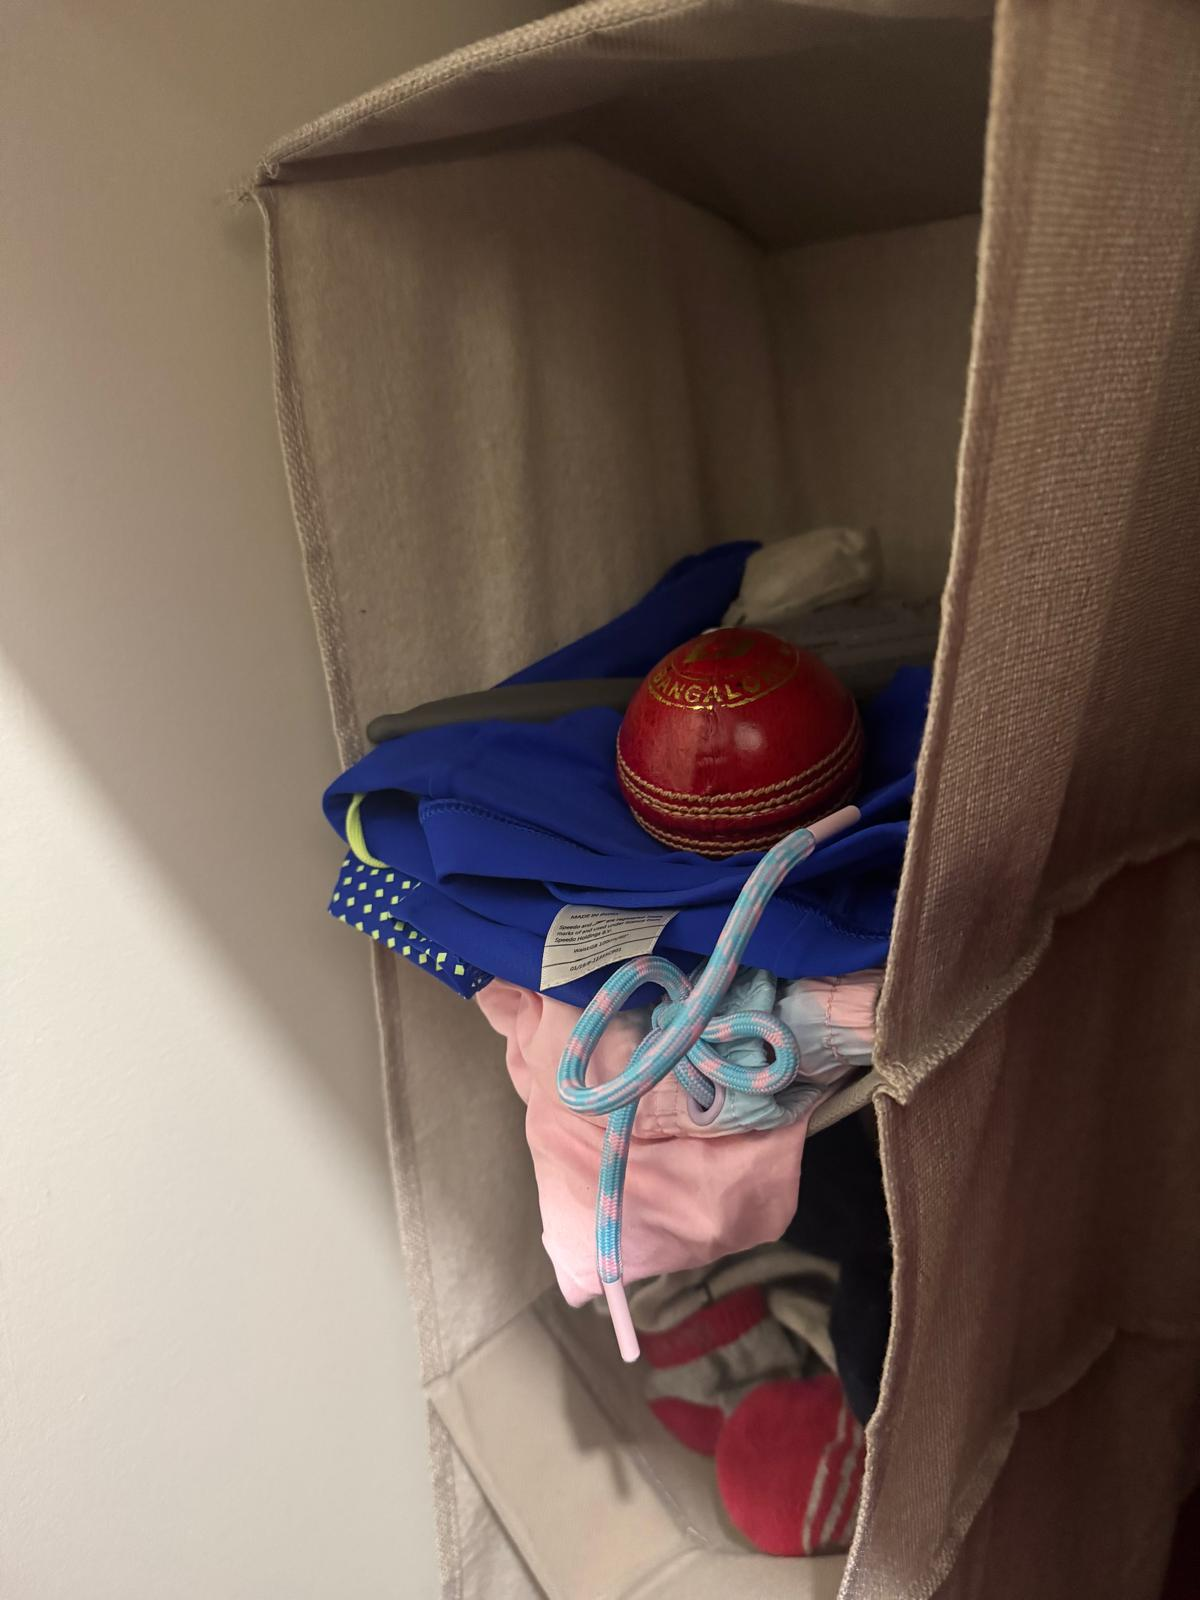Red_Ball: (610, 625, 870, 864)
